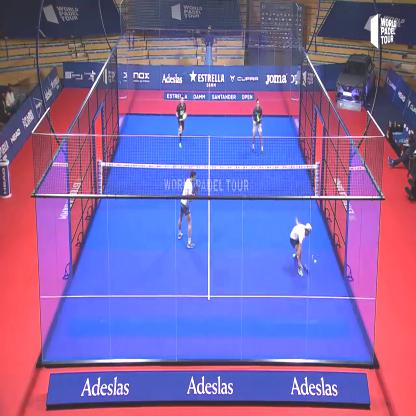ball: (312, 255, 320, 267)
